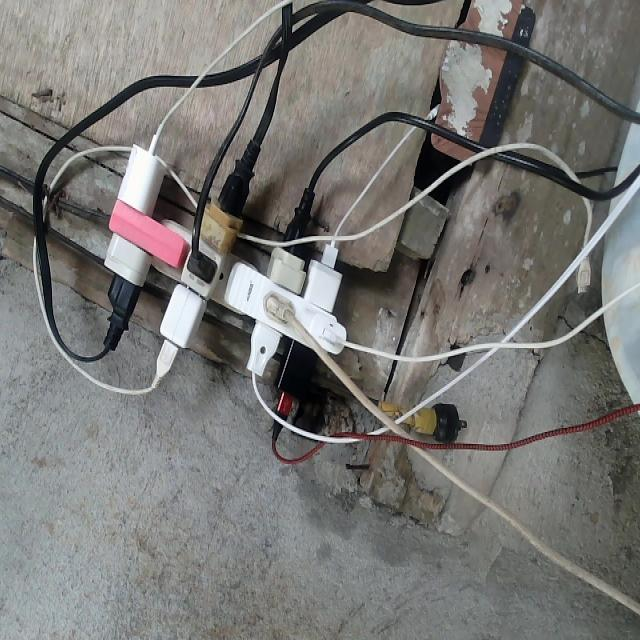-: (103, 143, 345, 361)
